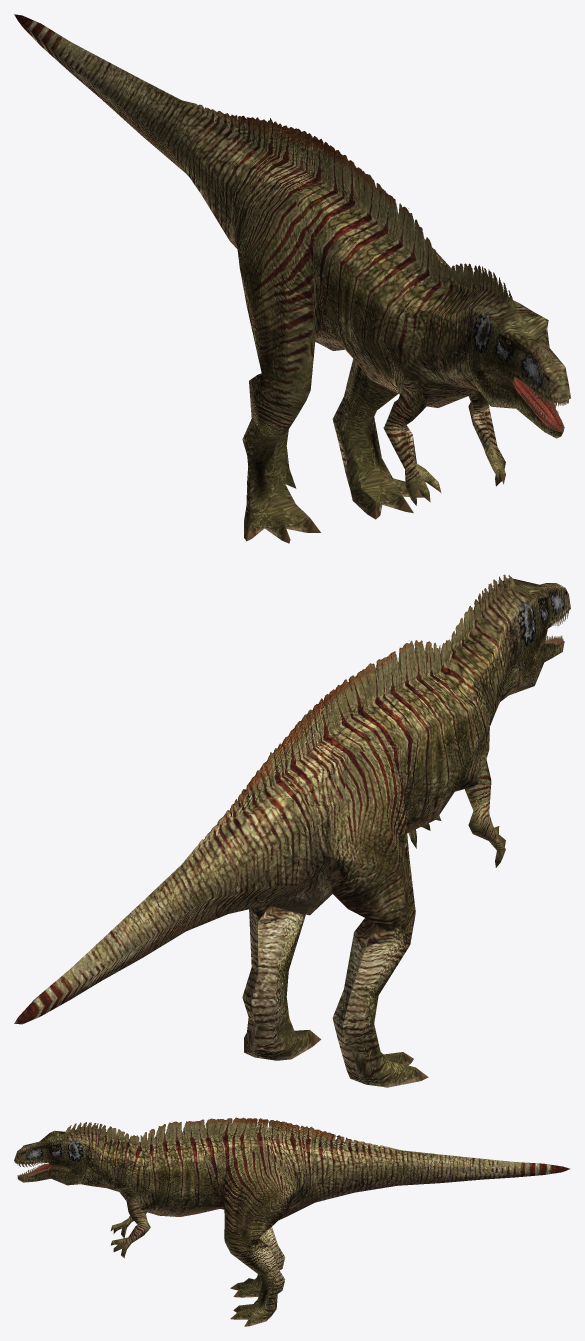
File: acro.obj
The picture shows the model from 3 angles, top to bottom: view 1: azimuth 30°, elevation 25°; view 2: azimuth 150°, elevation 25°; view 3: azimuth 270°, elevation 25°; orthographic projection. The views are drawn at different scales.
Parts seen in each view (by area): view 1: acro; view 2: acro; view 3: acro.
Part boxes in pixels (<box>): acro: <box>14,14,570,543</box>; acro: <box>14,574,570,1087</box>; acro: <box>14,1117,570,1326</box>.
Size of the model in its own units: 2.39 by 4.68 by 12.56.
Materials: 1 (1 with a texture image).
